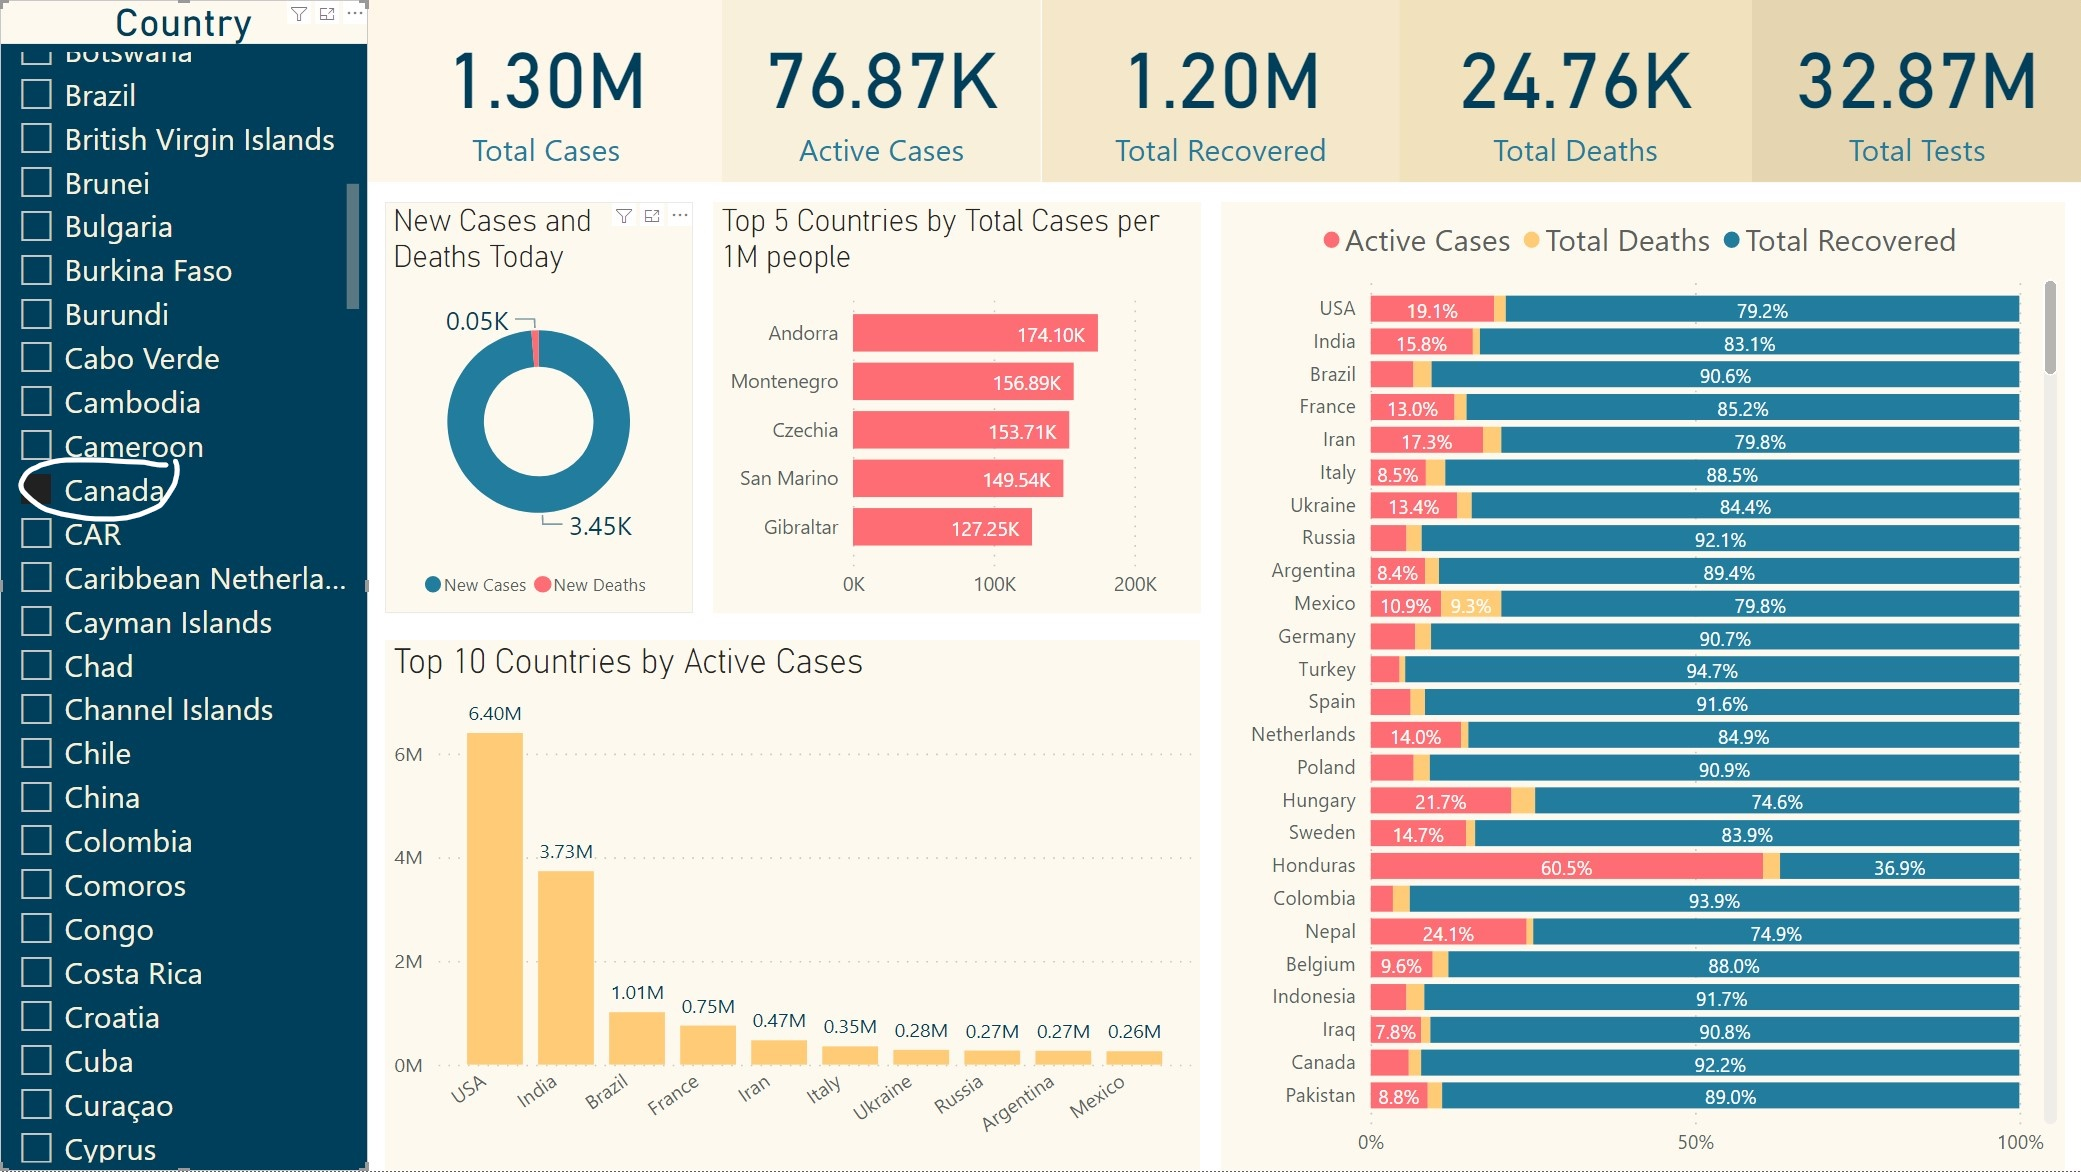

What the dashboard file says about the page in this screenshot:
{"tool":"powerbi","page":{"name":"Page 1","canvas":[1280,720],"ordinal":0},"visuals":[{"type":"slicer","title":"Country","fields":{"Values":["Table 1.Country,Other"]},"box":[0,0,226.2,719.7],"z":0},{"type":"card","title":"Total Cases","fields":{"Values":["Sum(Table 1.TotalCases)"]},"box":[226.2,0,218.6,112.1],"z":1000},{"type":"card","title":"Total Cases","fields":{"Values":["Sum(Table 1.Active Cases)"]},"box":[444.1,0,196.3,111.8],"z":2000},{"type":"card","title":"Total Cases","fields":{"Values":["Sum(Table 1.Total Deaths)"]},"box":[860,0,217.1,111.8],"z":3000},{"type":"card","title":"Total Cases","fields":{"Values":["Sum(Table 1.Total Recovered)"]},"box":[640.4,0,219.5,111.8],"z":4000},{"type":"hundredPercentStackedBarChart","fields":{"Category":["Table 1.Country,Other"],"Y":["Sum(Table 1.Active Cases)","Sum(Table 1.Total Deaths)","Sum(Table 1.Total Recovered)"]},"box":[750.6,124.3,519.5,595.7],"z":5000},{"type":"donutChart","title":"New Cases and Deaths Today","fields":{"Y":["Sum(Table 1.New Cases)","Sum(Table 1.New Deaths)"]},"box":[236.9,124.3,188.9,252.7],"z":6000},{"type":"columnChart","title":"Top 10 Countries by Active Cases","fields":{"Category":["Table 1.Country,Other"],"Y":["Sum(Table 1.Active Cases)"]},"box":[236.9,393.5,501.2,326.4],"z":7000},{"type":"clusteredBarChart","title":"Top 5 Countries by Total Cases per 1M people","fields":{"Category":["Table 1.Country,Other"],"Y":["Sum(Table 1.Total Cases/1M pop)"]},"box":[438.3,124.3,299.9,252.7],"z":8000},{"type":"card","title":"Total Cases","fields":{"Values":["Sum(Table 1.Total Tests)"]},"box":[1077,0,203,111.8],"z":9000}]}

Visuals, with their boxes on the page's 1280x720 design canvas (x1, y1, x2, y2). These are canvas units, not pixel positions in the 2081x1172 screenshot, which may show the page scaled, cropped or inside an application window:
"Country" slicer: detection(0, 0, 226, 720)
"Total Cases" card: detection(226, 0, 445, 112)
"Total Cases" card: detection(444, 0, 640, 112)
"Total Cases" card: detection(860, 0, 1077, 112)
"Total Cases" card: detection(640, 0, 860, 112)
hundredPercentStackedBarChart - Table 1.Country,Other x Sum(Table 1.Active Cases): detection(751, 124, 1270, 720)
"New Cases and Deaths Today" donutChart: detection(237, 124, 426, 377)
"Top 10 Countries by Active Cases" columnChart: detection(237, 394, 738, 720)
"Top 5 Countries by Total Cases per 1M people" clusteredBarChart: detection(438, 124, 738, 377)
"Total Cases" card: detection(1077, 0, 1280, 112)
